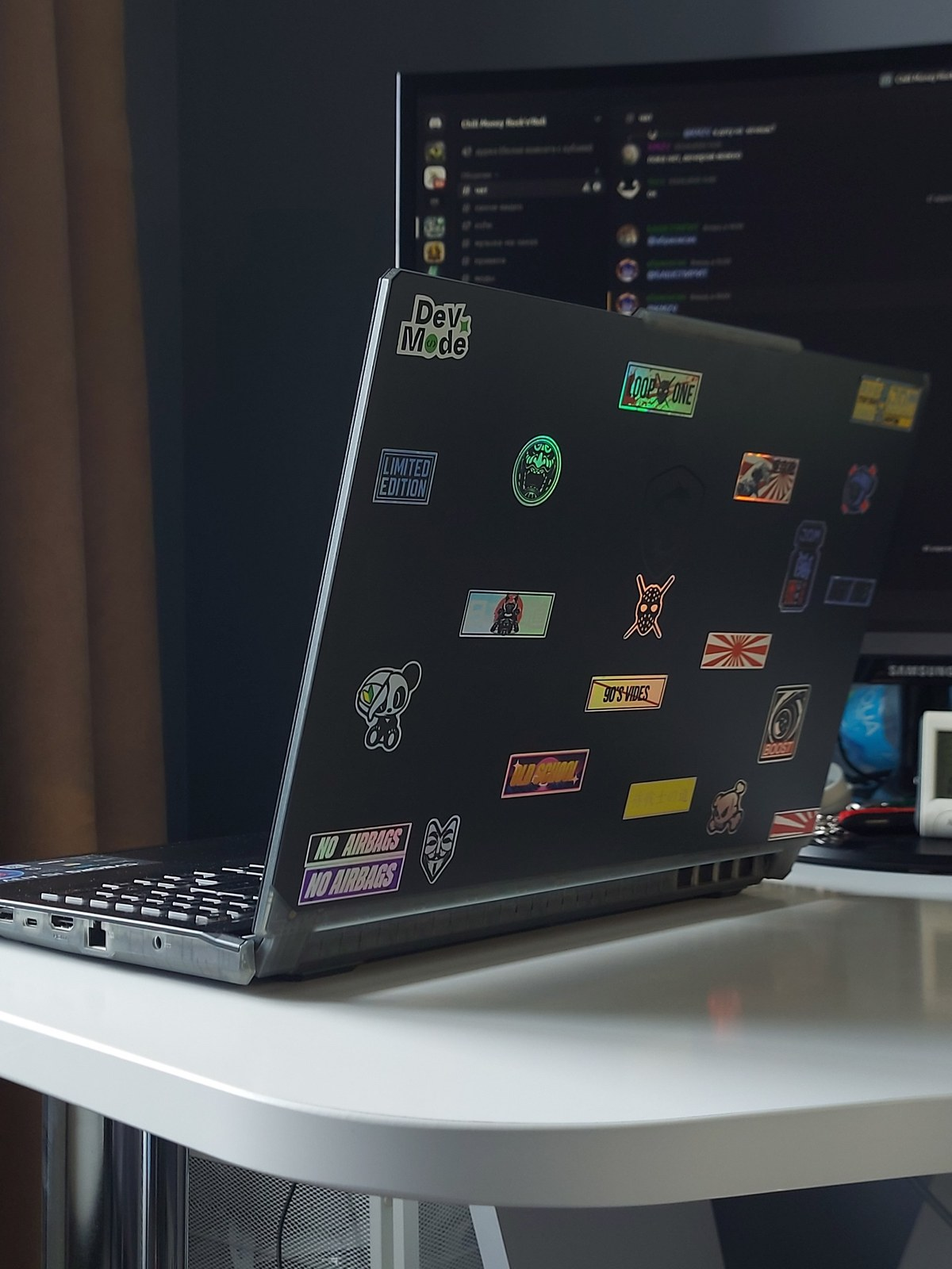laptop: (1, 265, 932, 986)
